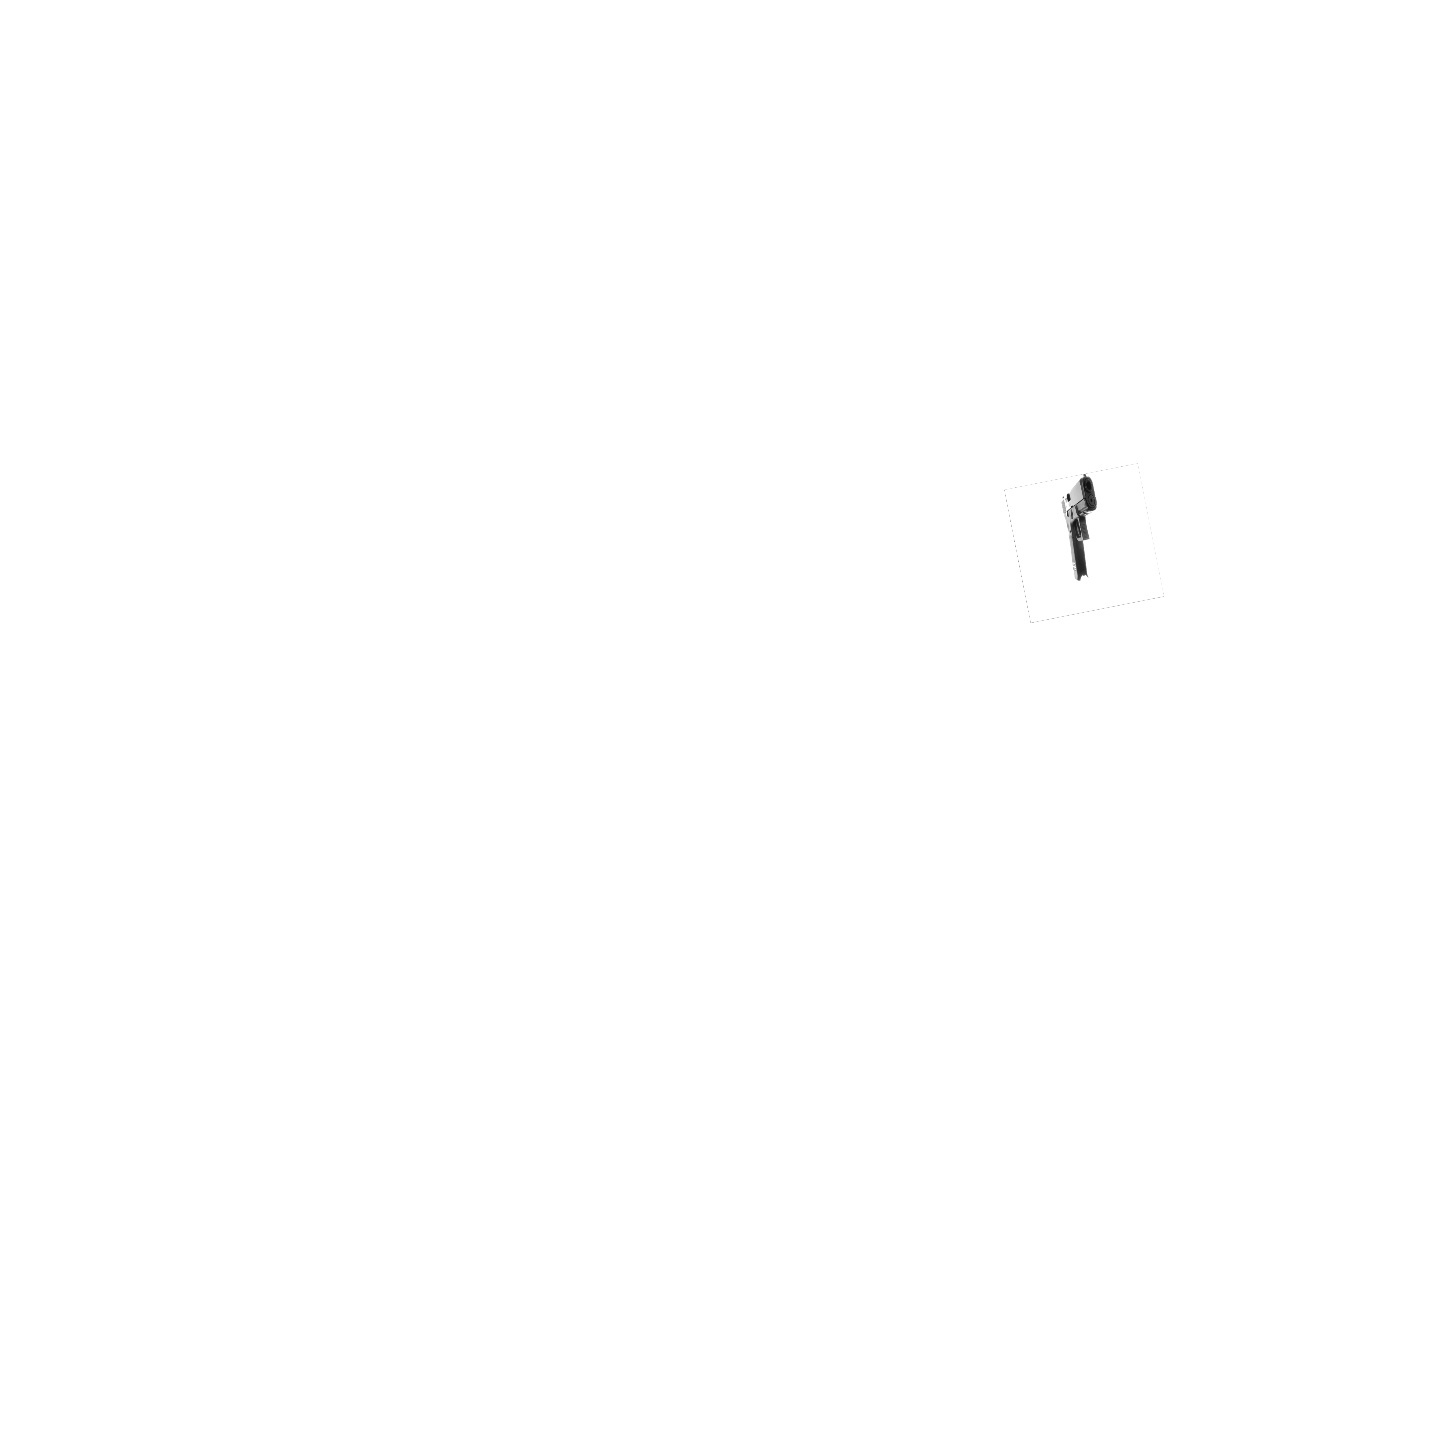gun: (1061, 474, 1098, 581)
